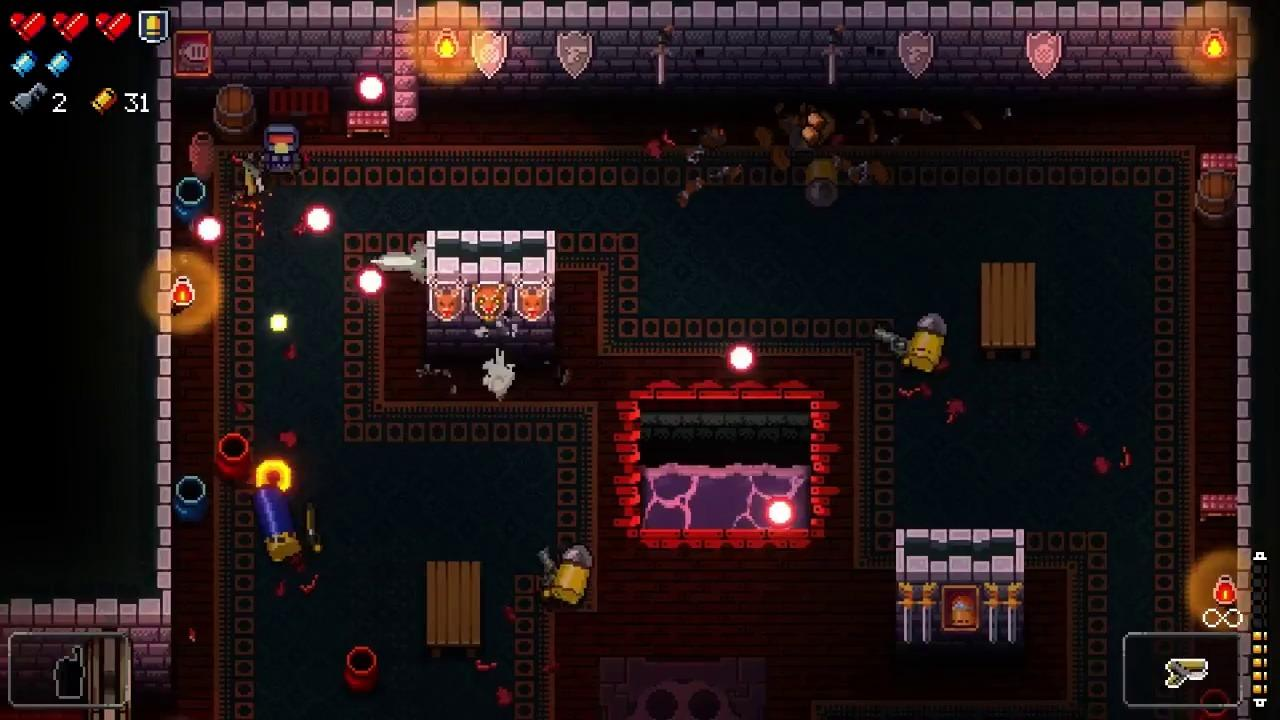bullet: (765, 496, 797, 532), (303, 204, 335, 235), (726, 343, 756, 373), (196, 213, 224, 244), (356, 74, 385, 103), (357, 267, 385, 296)
bullet_kin: (906, 312, 948, 371), (553, 545, 593, 604)
dead_bullet_kin: (805, 160, 839, 207)
locked_door: (87, 630, 132, 707)
player: (261, 122, 302, 177)
red_shotgun_kin: (254, 485, 303, 561)
table: (426, 560, 481, 658), (981, 263, 1036, 361)
water_pit: (614, 378, 840, 549)
